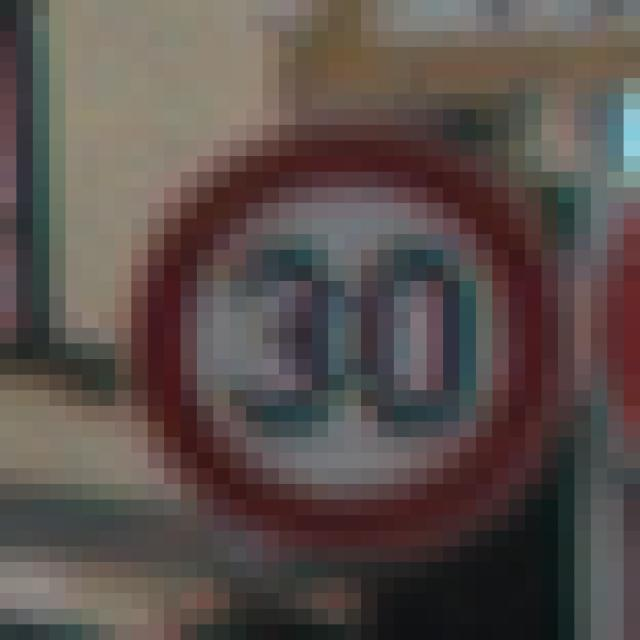Speed Limit -30-: (90, 86, 534, 538)
